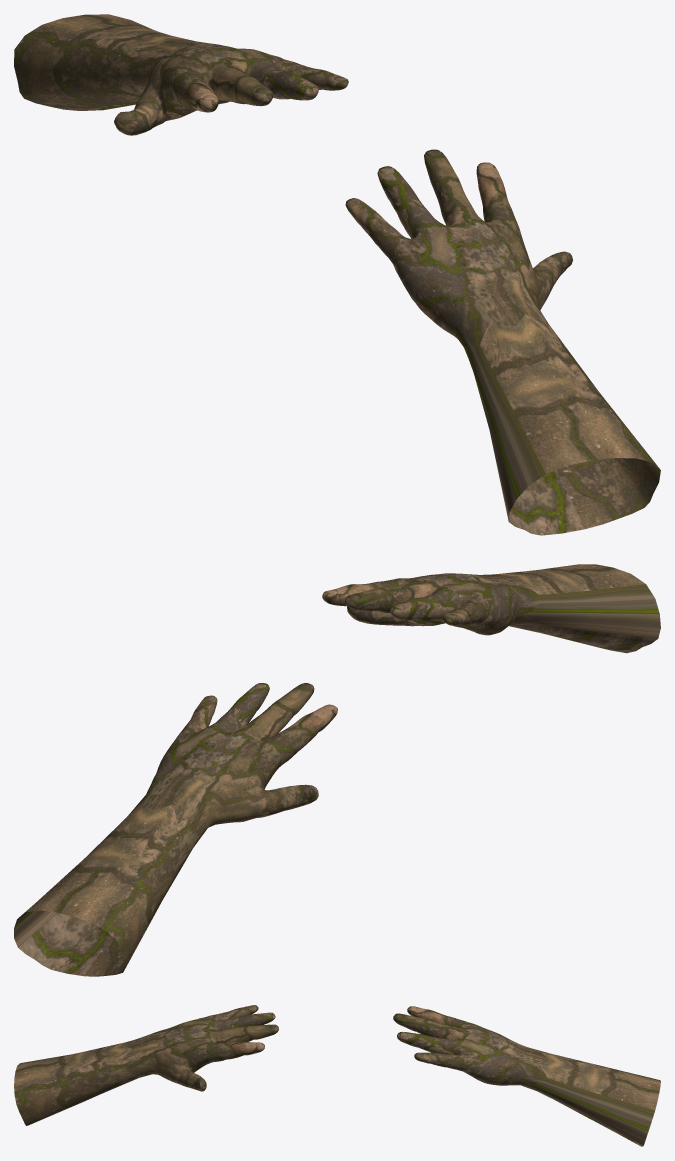
Rendered from hands_000013.obj.
The picture shows the model from 3 angles, top to bottom: view 1: azimuth 30°, elevation 25°; view 2: azimuth 150°, elevation 25°; view 3: azimuth 270°, elevation 25°; orthographic projection. The views are drawn at different scales.
Parts seen in each view (by area): view 1: hand.001_Mesh.001, hand_Mesh; view 2: hand_Mesh, hand.001_Mesh.001; view 3: hand_Mesh, hand.001_Mesh.001.
Part boxes in pixels (x1,y1,x2,y2): hand.001_Mesh.001: [345, 149, 660, 535]; hand_Mesh: [14, 14, 348, 135]; hand_Mesh: [14, 683, 337, 976]; hand.001_Mesh.001: [322, 564, 660, 653]; hand_Mesh: [393, 1006, 660, 1146]; hand.001_Mesh.001: [14, 1005, 278, 1125].
Size of the model in its own units: 1.58 by 1.43 by 7.37.
Materials: 1 (1 with a texture image).
